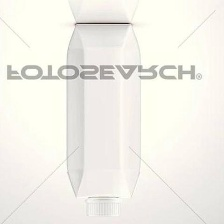carton: (64, 20, 144, 220)
